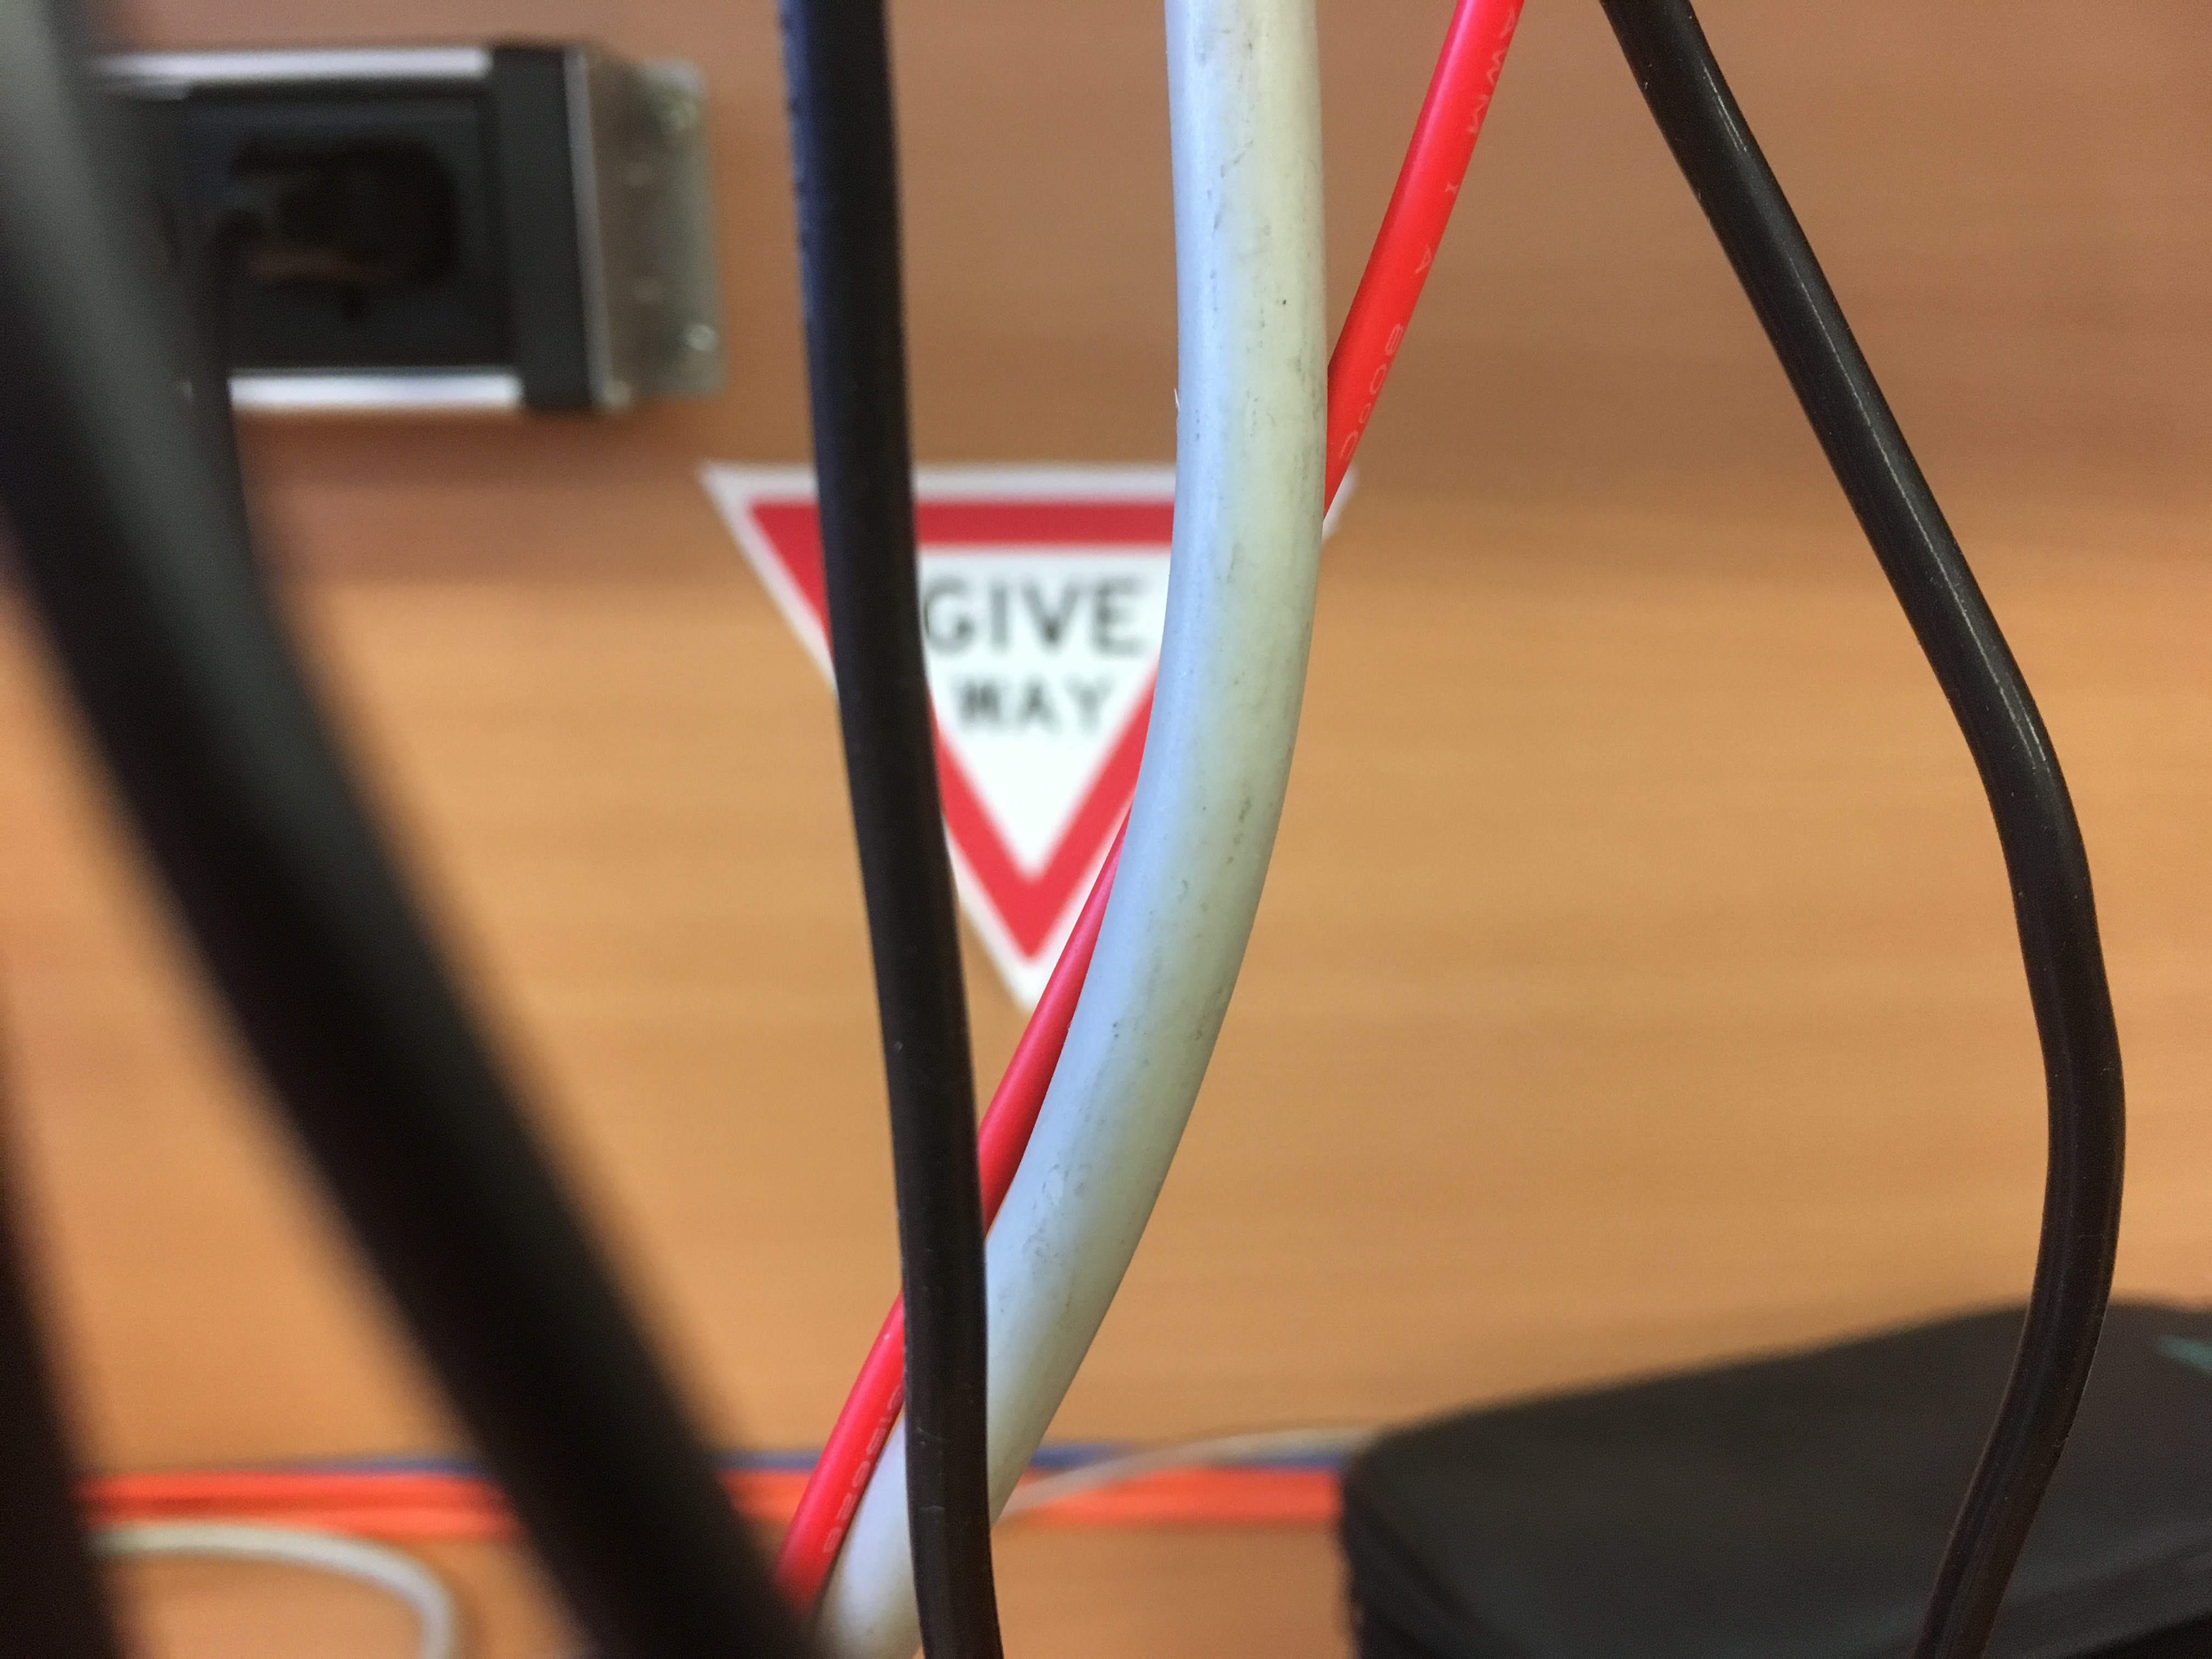giveway: (737, 497, 1209, 965), (921, 444, 1177, 964)
